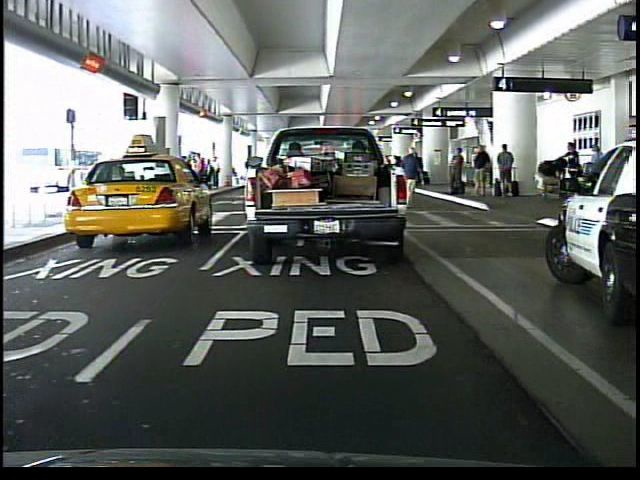person: (349, 139, 382, 219), (399, 144, 425, 214), (587, 139, 612, 200), (561, 139, 584, 200)
